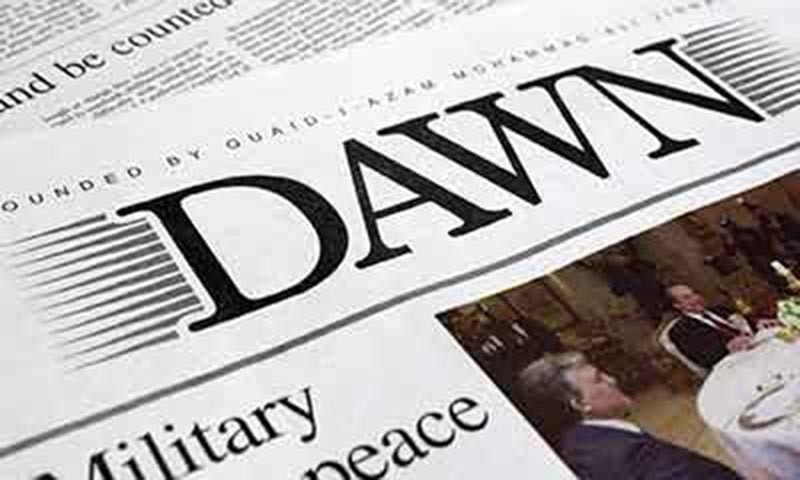news_paper: (1, 2, 800, 480)
